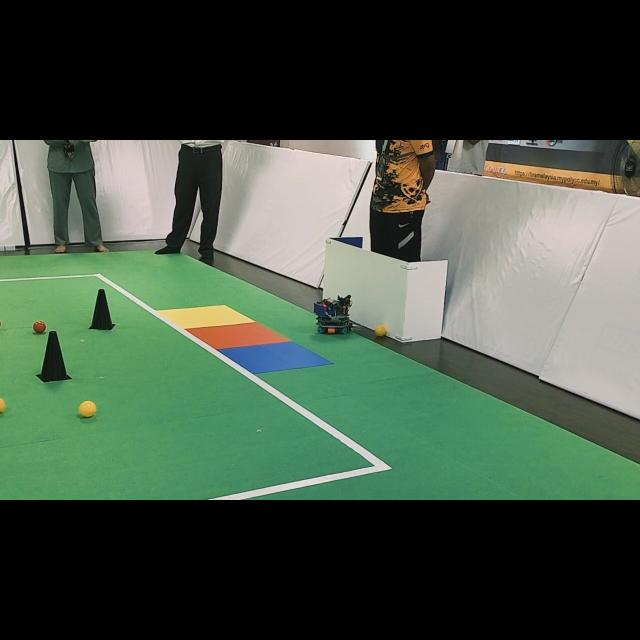ball: (79, 401, 96, 418), (32, 320, 46, 333), (375, 325, 386, 336), (0, 398, 6, 413)
goal: (220, 341, 332, 374), (189, 322, 290, 350), (159, 305, 254, 329)
